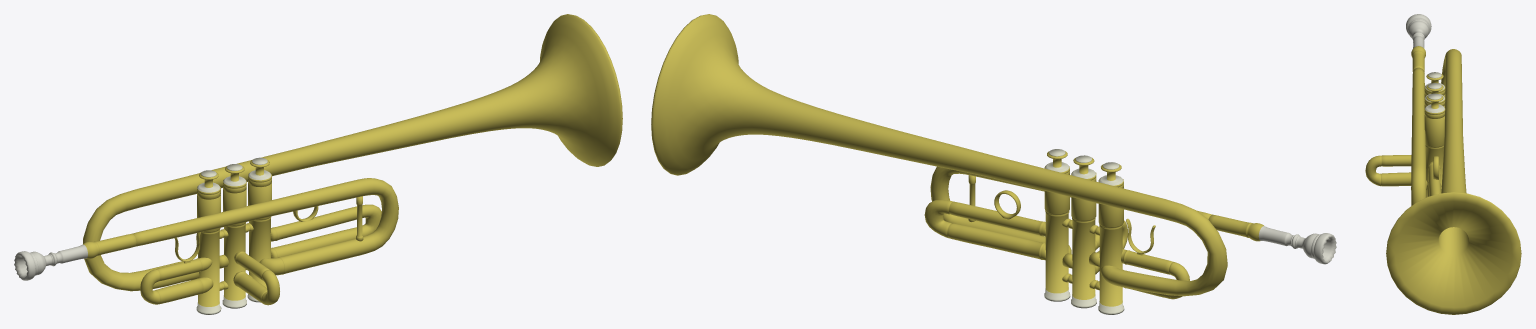
The model's file is trumpet.fbx.
The picture shows the model from 3 angles, left to right: view 1: azimuth 30°, elevation 25°; view 2: azimuth 150°, elevation 25°; view 3: azimuth 270°, elevation 25°; orthographic projection. The views are drawn at different scales.
Visible parts, largest first — view 1: Trumpet, Valves; view 2: Trumpet, Valves; view 3: Trumpet, Valves, 3rd valve slide ring.
Boxes of the visible parts, x1,y1,x2,y2 form: Trumpet: (14, 14, 622, 305); Valves: (196, 157, 271, 314); Trumpet: (651, 14, 1336, 299); Valves: (1044, 149, 1124, 314); Trumpet: (1365, 14, 1521, 314); Valves: (1424, 72, 1445, 197); 3rd valve slide ring: (1433, 156, 1438, 179).
Bounding box in the file's own units: 1.76 × 0.5406 × 0.4698.
